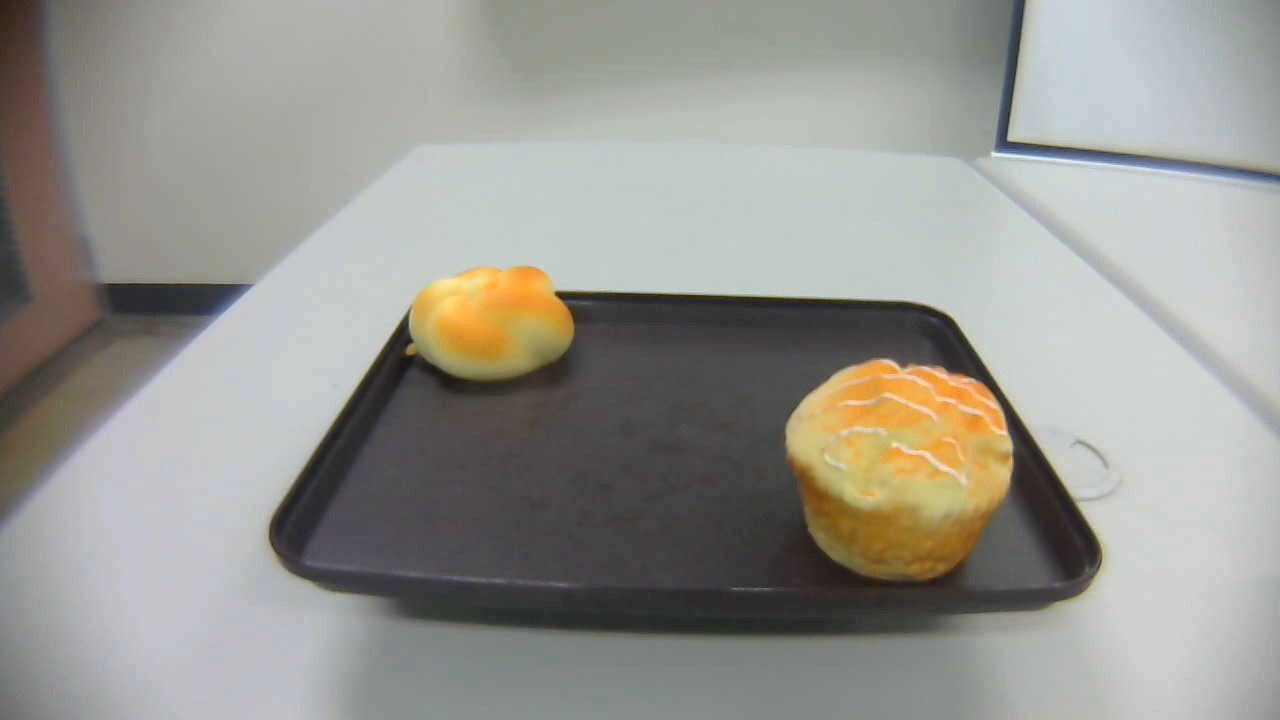cupcake: (786, 357, 1017, 586)
twist bread: (402, 264, 577, 381)
